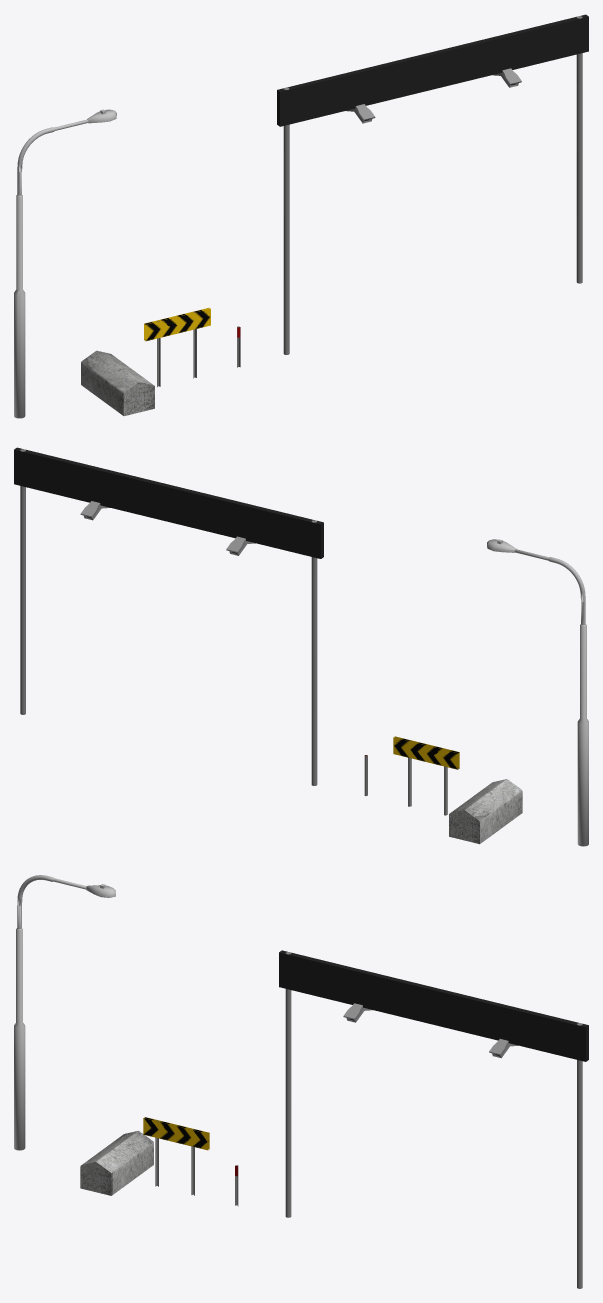
File: Props.FBX
The picture shows the model from 3 angles, top to bottom: view 1: azimuth 30°, elevation 25°; view 2: azimuth 150°, elevation 25°; view 3: azimuth 330°, elevation 25°; orthographic projection.
Parts seen in each view (by area): view 1: SpeedCameraPanel, StoneBarrier, Light, TurnSign; view 2: SpeedCameraPanel, StoneBarrier, Light, TurnSign; view 3: SpeedCameraPanel, StoneBarrier, Light, TurnSign.
Part boxes in pixels (left/top/right/bottom): SpeedCameraPanel: left=277, top=14, right=588, bottom=354; StoneBarrier: left=81, top=350, right=154, bottom=415; Light: left=14, top=109, right=116, bottom=418; TurnSign: left=144, top=307, right=210, bottom=387; SpeedCameraPanel: left=14, top=447, right=323, bottom=785; StoneBarrier: left=449, top=779, right=522, bottom=844; Light: left=487, top=539, right=588, bottom=846; TurnSign: left=393, top=736, right=459, bottom=815; SpeedCameraPanel: left=279, top=950, right=588, bottom=1288; StoneBarrier: left=80, top=1130, right=153, bottom=1195; Light: left=14, top=875, right=115, bottom=1150; TurnSign: left=143, top=1117, right=209, bottom=1195.
Bounding box in the file's own units: 227 × 109 × 29.34.
9 materials, 2 textured.
